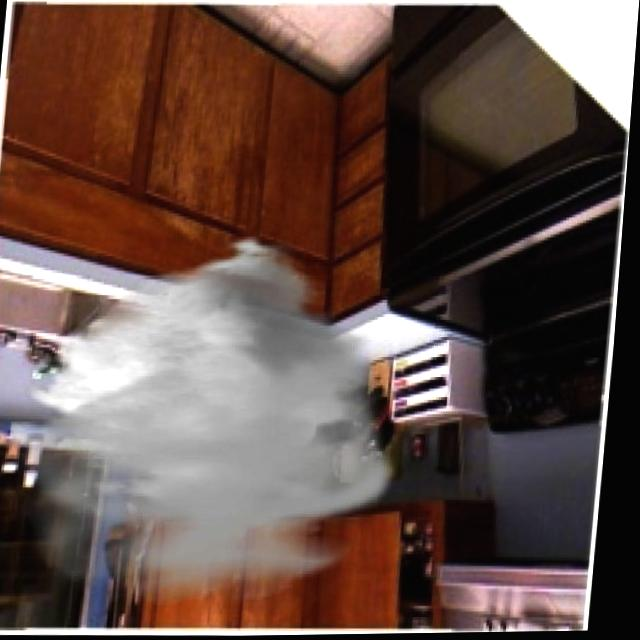no_helmet: (3, 232, 425, 606)
